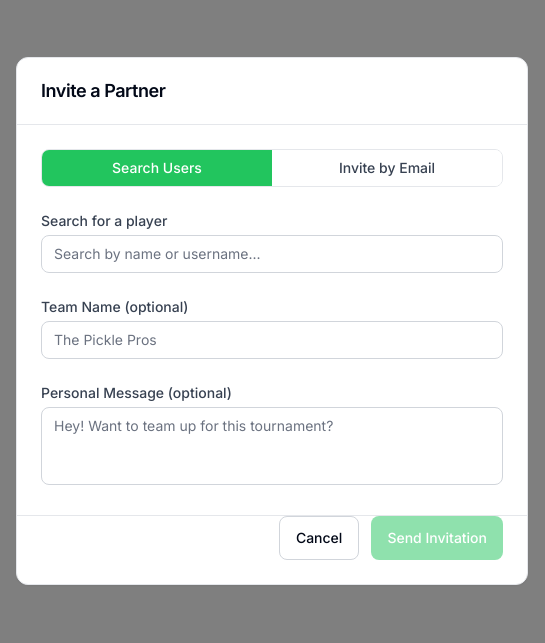
Test: PartnerInviteModal › User Search Autocomplete › selects a user from search results
In the field with placeholder "Search by name or username...": (272, 254) [41, 235, 503, 273], type "pla"
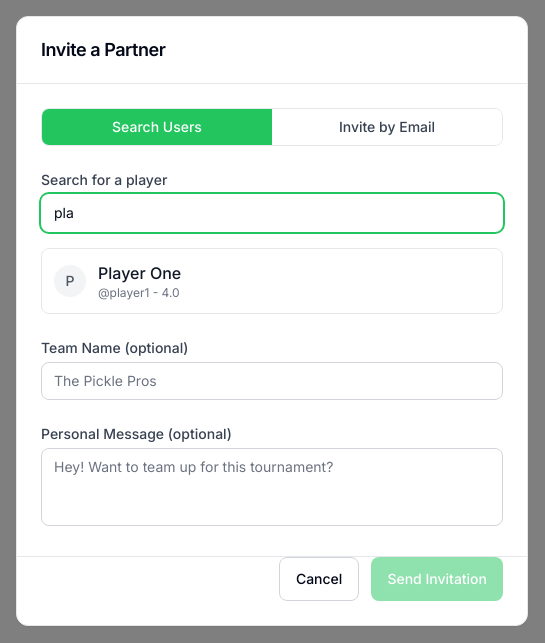
Now the text "Player One" is shown
Click the text "Player One": (140, 273) [98, 263, 181, 283]
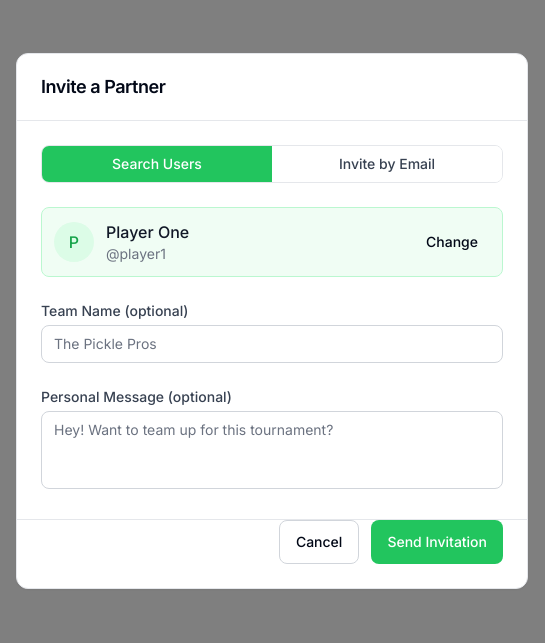
Now the text "@player1" is shown, box [106, 245, 166, 262]
Now the button "Change" is shown, box [414, 224, 490, 260]
